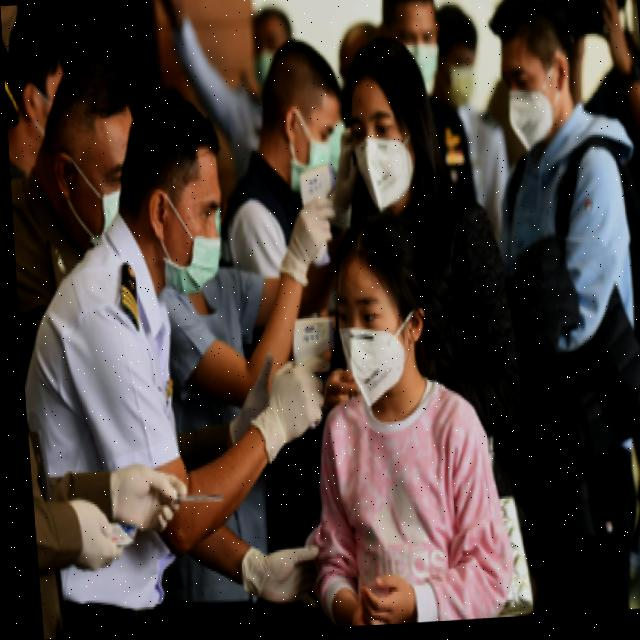Mask: (331, 308, 424, 411), (143, 183, 223, 296), (501, 50, 573, 155), (52, 144, 124, 245), (351, 114, 422, 215), (379, 22, 442, 102), (281, 105, 331, 200)
